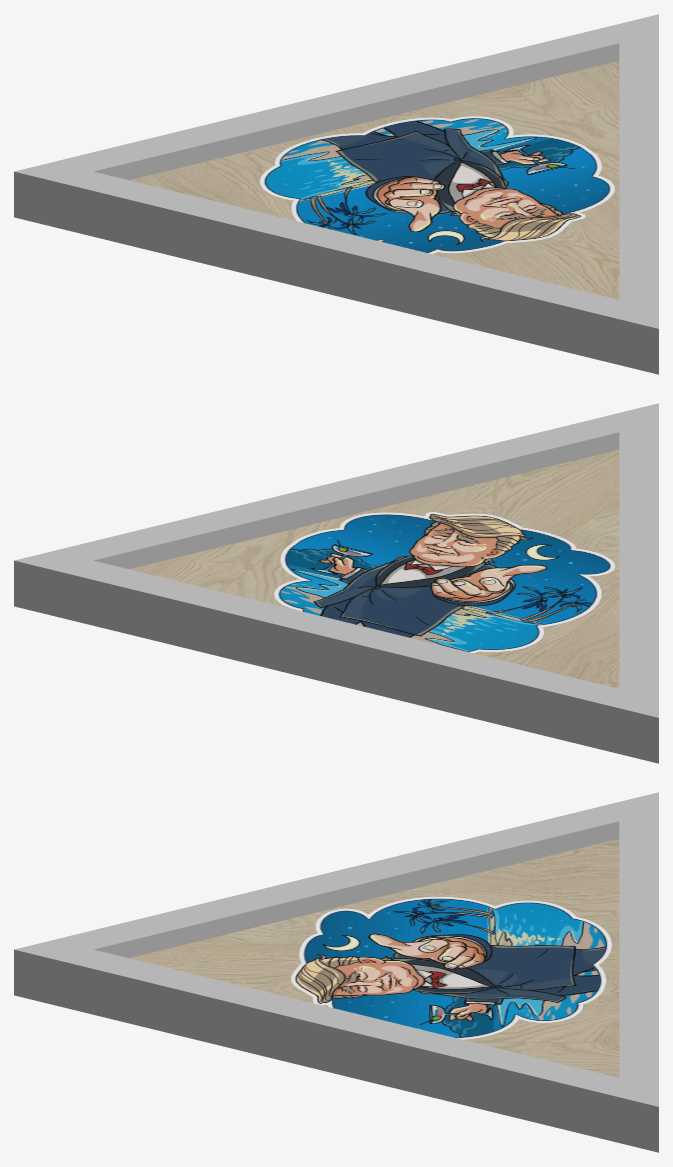
File: Puzzle_32.FBX
3 views of the same model, one above another, from view 1: azimuth 30°, elevation 25°; view 2: azimuth 150°, elevation 25°; view 3: azimuth 270°, elevation 25° (orthographic).
Parts seen in each view (by area): view 1: Wood, 018, 017, 020, 019, 011, 015, 012, 013, 016; view 2: Wood, 015, 017, 018, 019, 016, 011, 012, 013, 020; view 3: Wood, 015, 020, 017, 016, 018, 011, 019, 012, 013.
Part boxes in pixels (left/top/right/bottom): Wood: left=14, top=14, right=658, bottom=374; 018: left=424, top=61, right=619, bottom=173; 017: left=269, top=116, right=506, bottom=188; 020: left=130, top=108, right=480, bottom=188; 019: left=502, top=190, right=619, bottom=299; 011: left=444, top=146, right=619, bottom=227; 015: left=352, top=207, right=582, bottom=290; 012: left=211, top=174, right=401, bottom=223; 013: left=328, top=189, right=502, bottom=231; 016: left=165, top=189, right=427, bottom=252; Wood: left=14, top=403, right=658, bottom=763; 015: left=502, top=450, right=619, bottom=594; 017: left=265, top=578, right=502, bottom=648; 018: left=129, top=521, right=327, bottom=608; 019: left=387, top=449, right=618, bottom=543; 016: left=561, top=540, right=619, bottom=688; 011: left=325, top=506, right=466, bottom=577; 012: left=502, top=584, right=560, bottom=663; 013: left=418, top=535, right=502, bottom=619; 020: left=289, top=597, right=582, bottom=679; Wood: left=14, top=792, right=658, bottom=1152; 015: left=129, top=916, right=426, bottom=966; 020: left=560, top=839, right=619, bottom=1013; 017: left=444, top=910, right=560, bottom=1025; 016: left=280, top=838, right=618, bottom=933; 018: left=422, top=1000, right=619, bottom=1077; 011: left=305, top=967, right=501, bottom=1029; 019: left=165, top=967, right=382, bottom=1014; 012: left=419, top=881, right=560, bottom=942; 013: left=327, top=924, right=501, bottom=987.
Bounding box in the file's own units: 4.73 × 0.3209 × 4.1.
